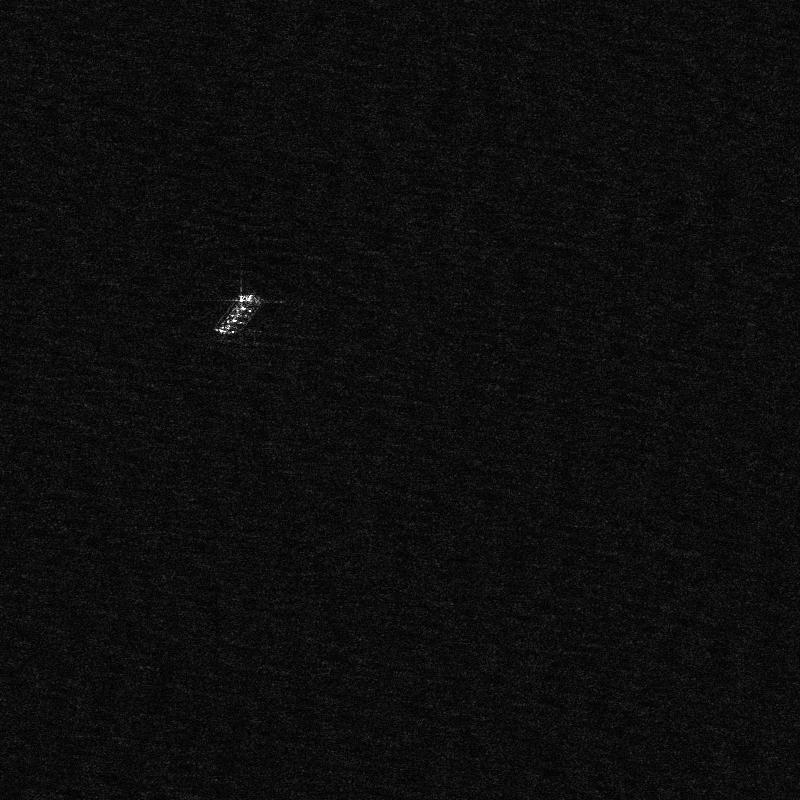ship: (214, 294, 261, 334)
